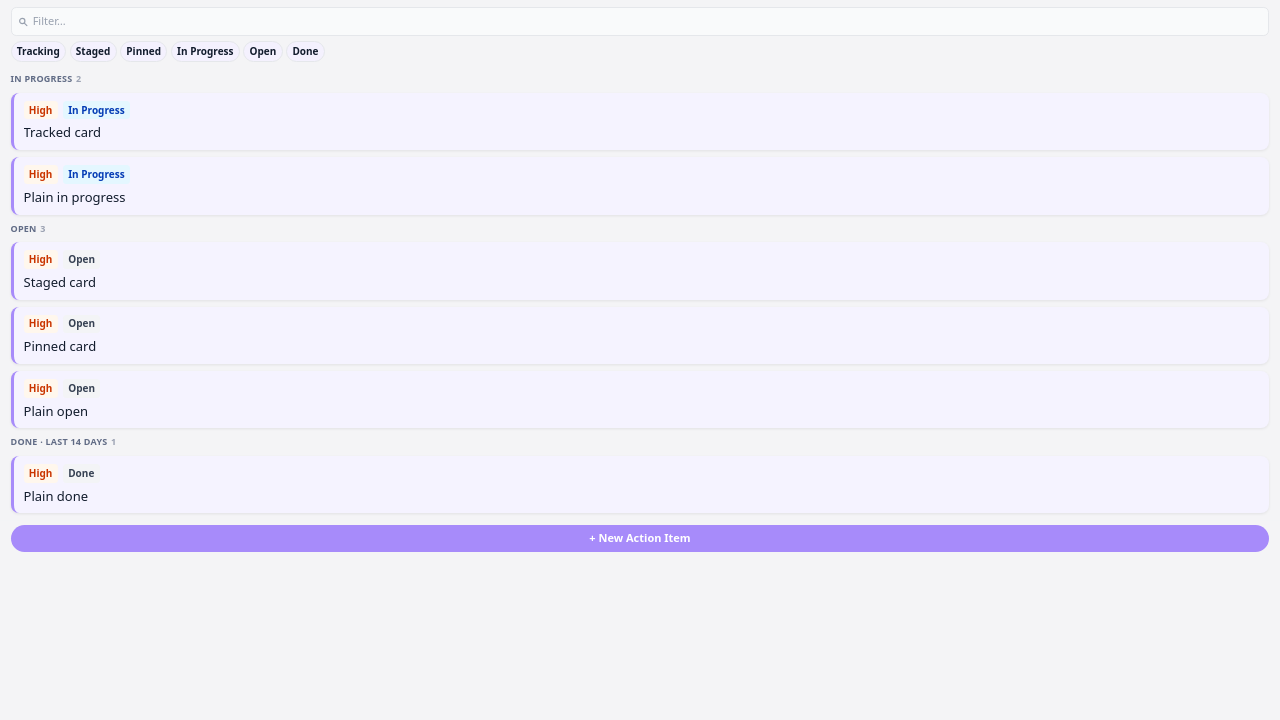
Scenario: action items sidebar filter flags › says No matches when the flags exclude everything
Check: the text "Plain open" is shown, box [24,402,88,420]
Click the button "Tracking".
click(38, 52)  # box [10,41,66,62]
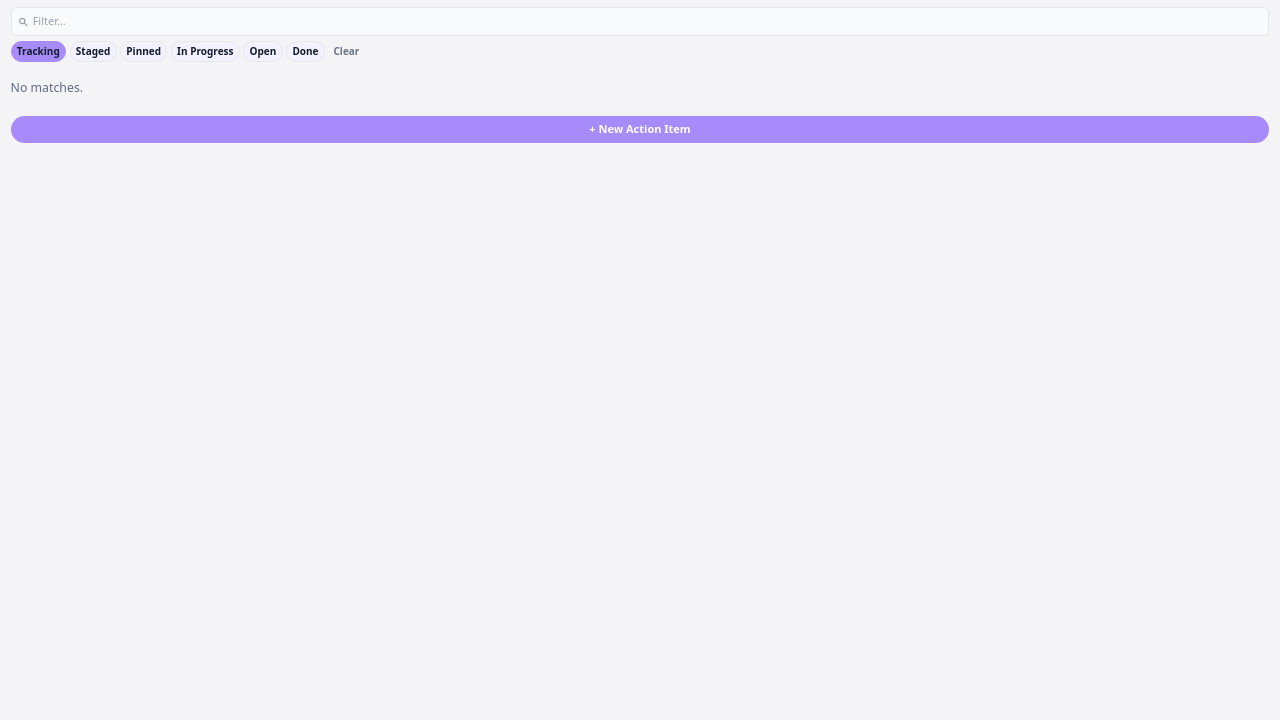
Check: the text "No matches." is shown, box [10,79,83,96]
